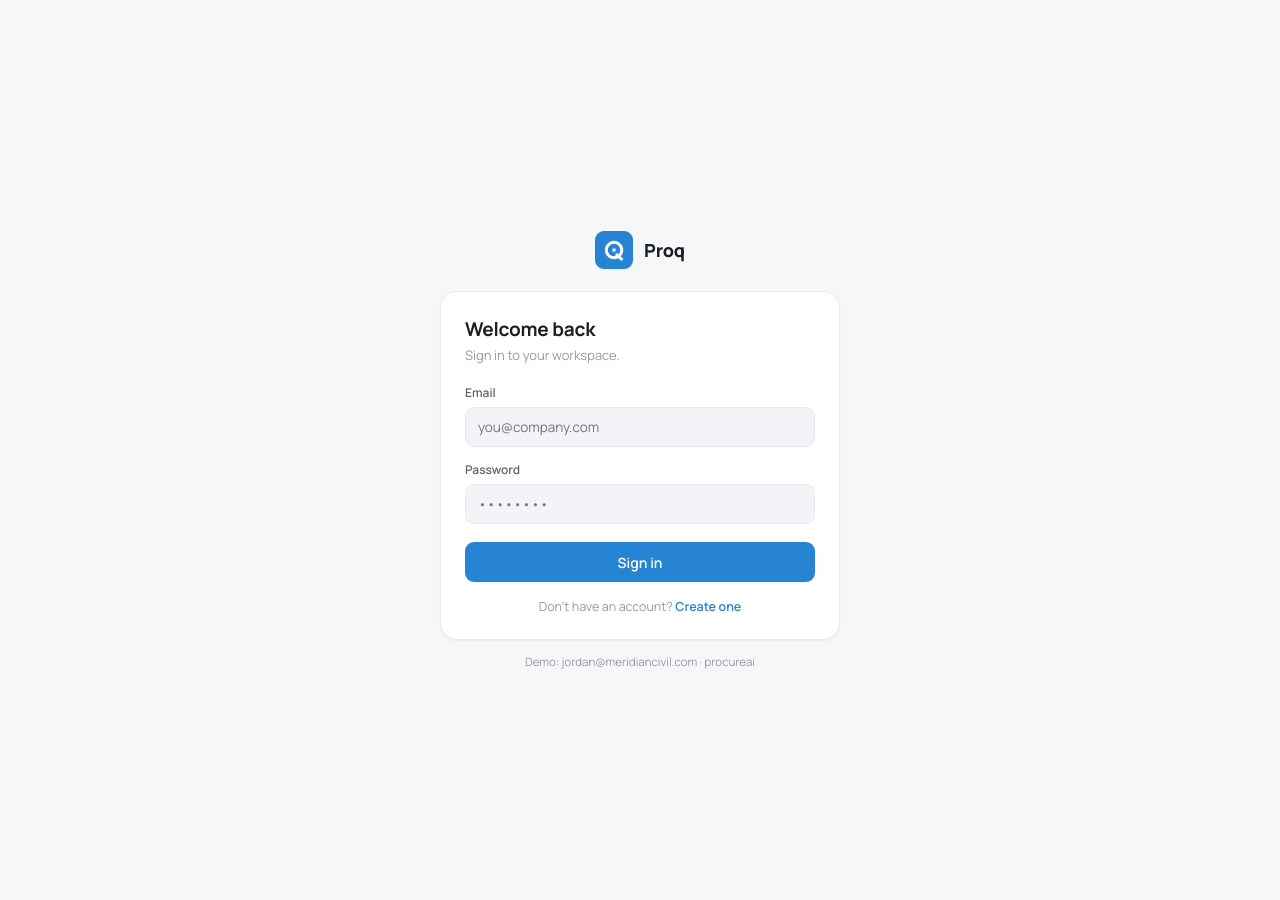
account switching › never renders the previous account's workspace after a different user signs in
Type "alice@acmebuild.com" into the field with placeholder "you@company.com". click: (640, 427)
box: [465,407,815,447]
Type "password123" into the password field with placeholder "••••••••". click: (640, 504)
box: [465,484,815,524]
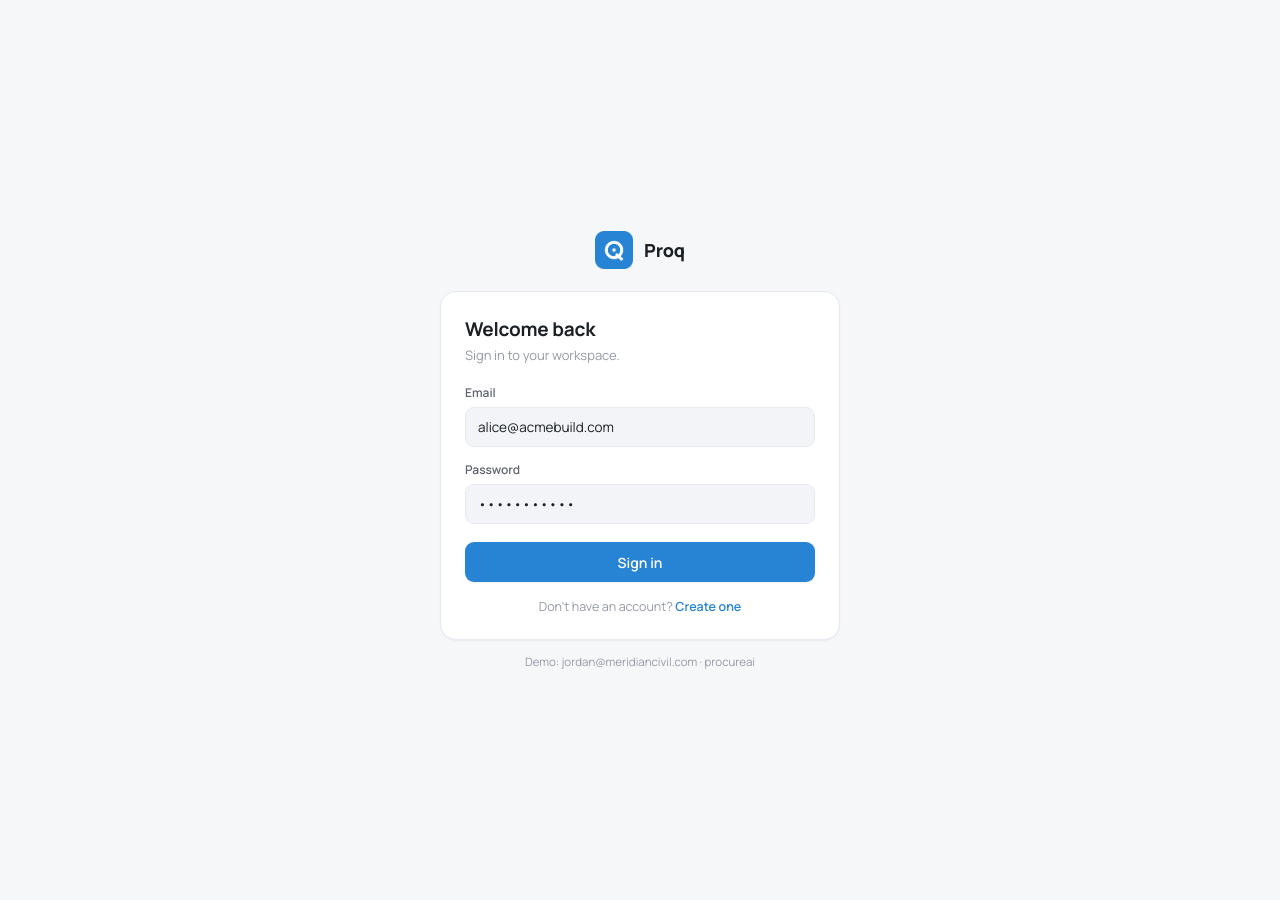
Click the button "Sign in". click: (640, 562)
box: [465,542,815,582]
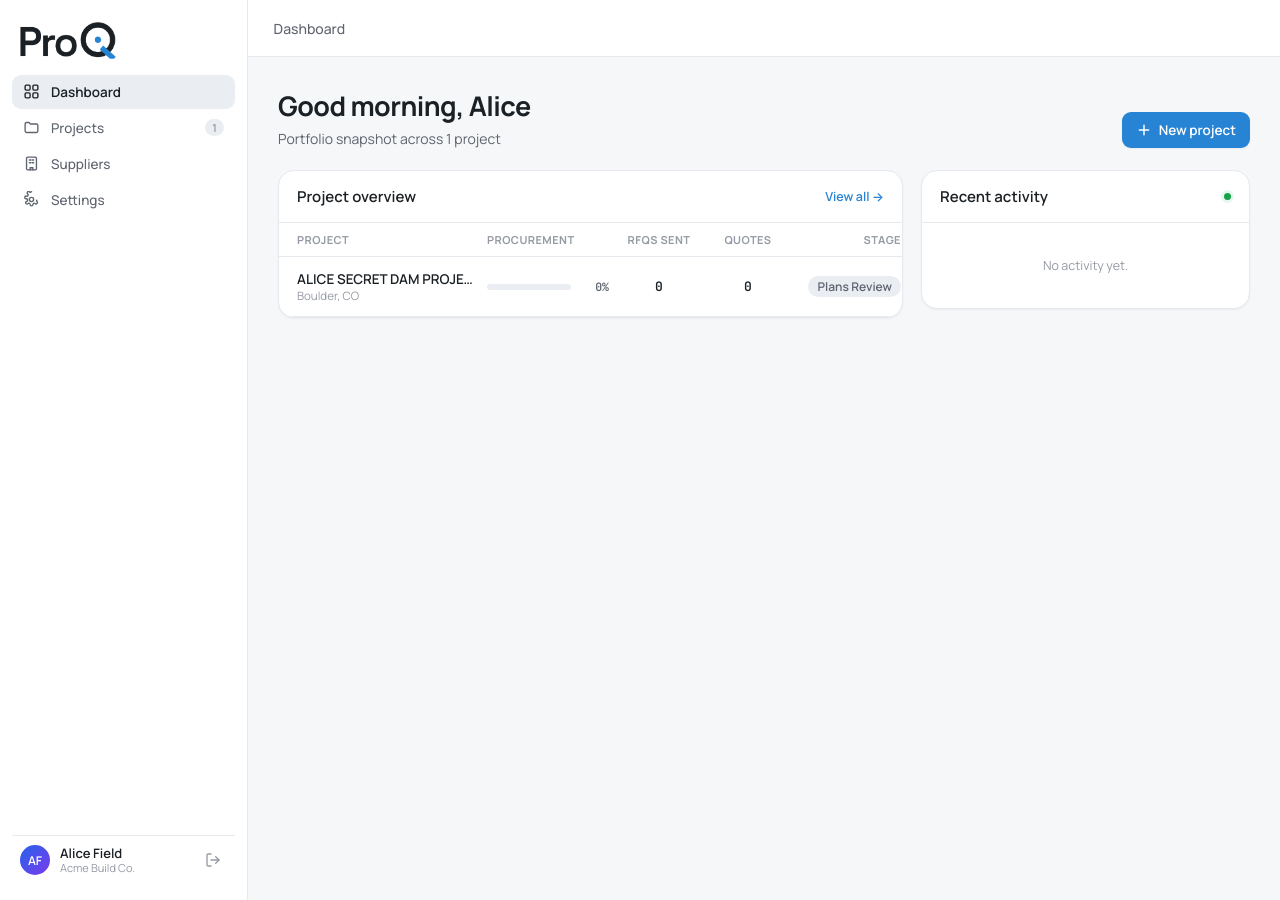
Expected: the text "ALICE SECRET DAM PROJECT" is shown, [297,270,477,288]
Click the button titled "Sign out". click: (213, 860)
box: [199,846,227,874]
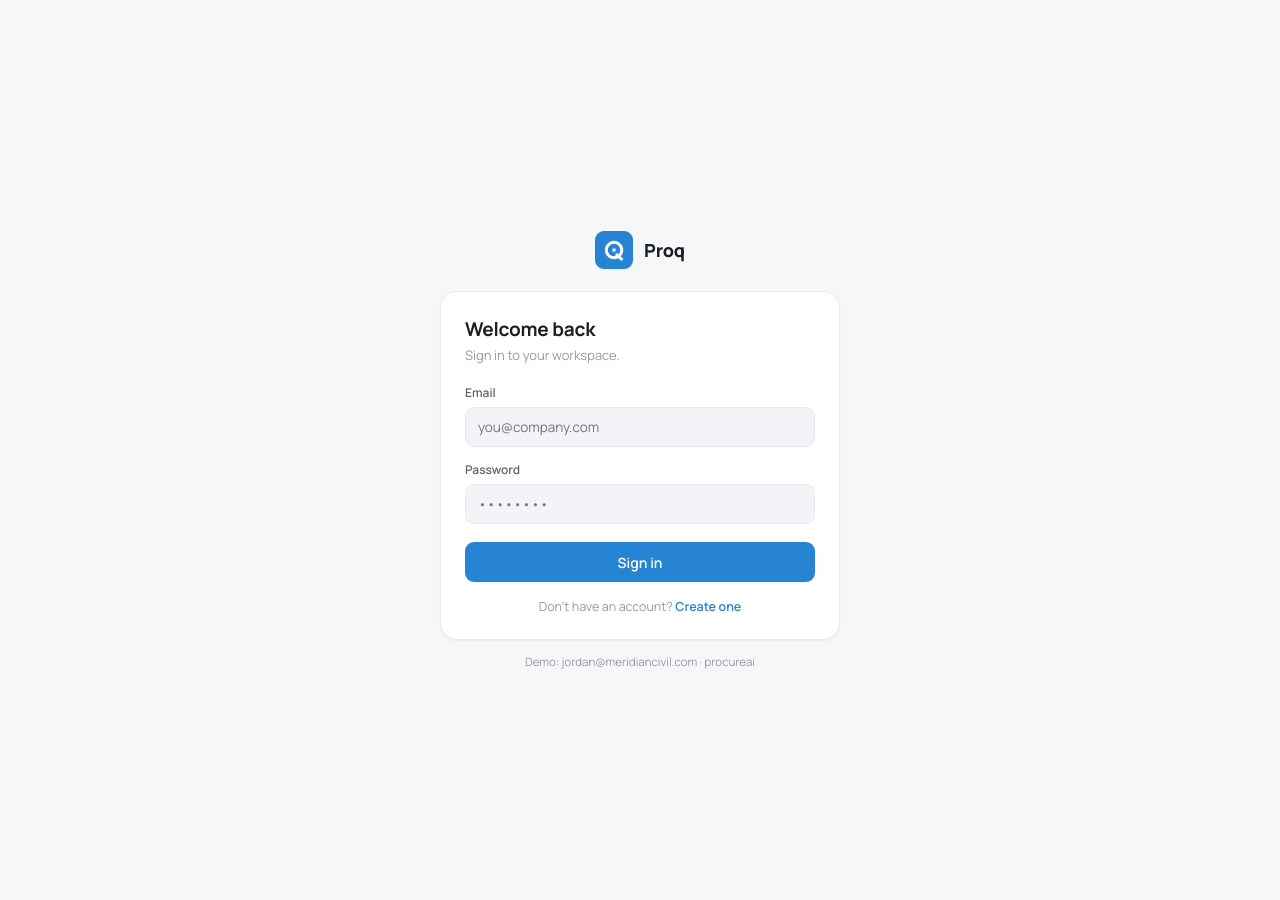
Expected: the field with placeholder "you@company.com" is shown
Type "bob@rivera.com" into the field with placeholder "you@company.com". click: (640, 427)
box: [465,407,815,447]
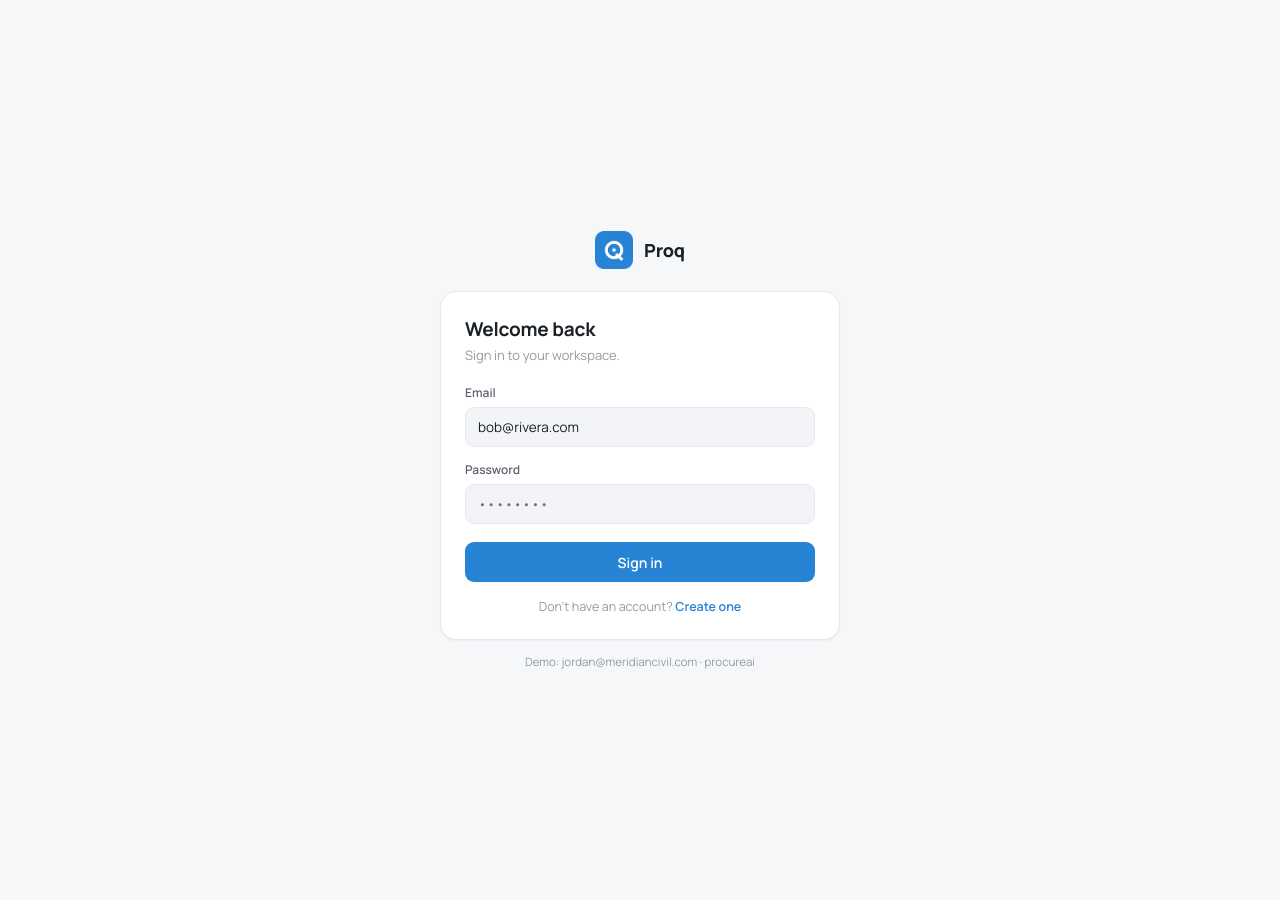
Type "password123" into the password field with placeholder "••••••••". click: (640, 504)
box: [465,484,815,524]
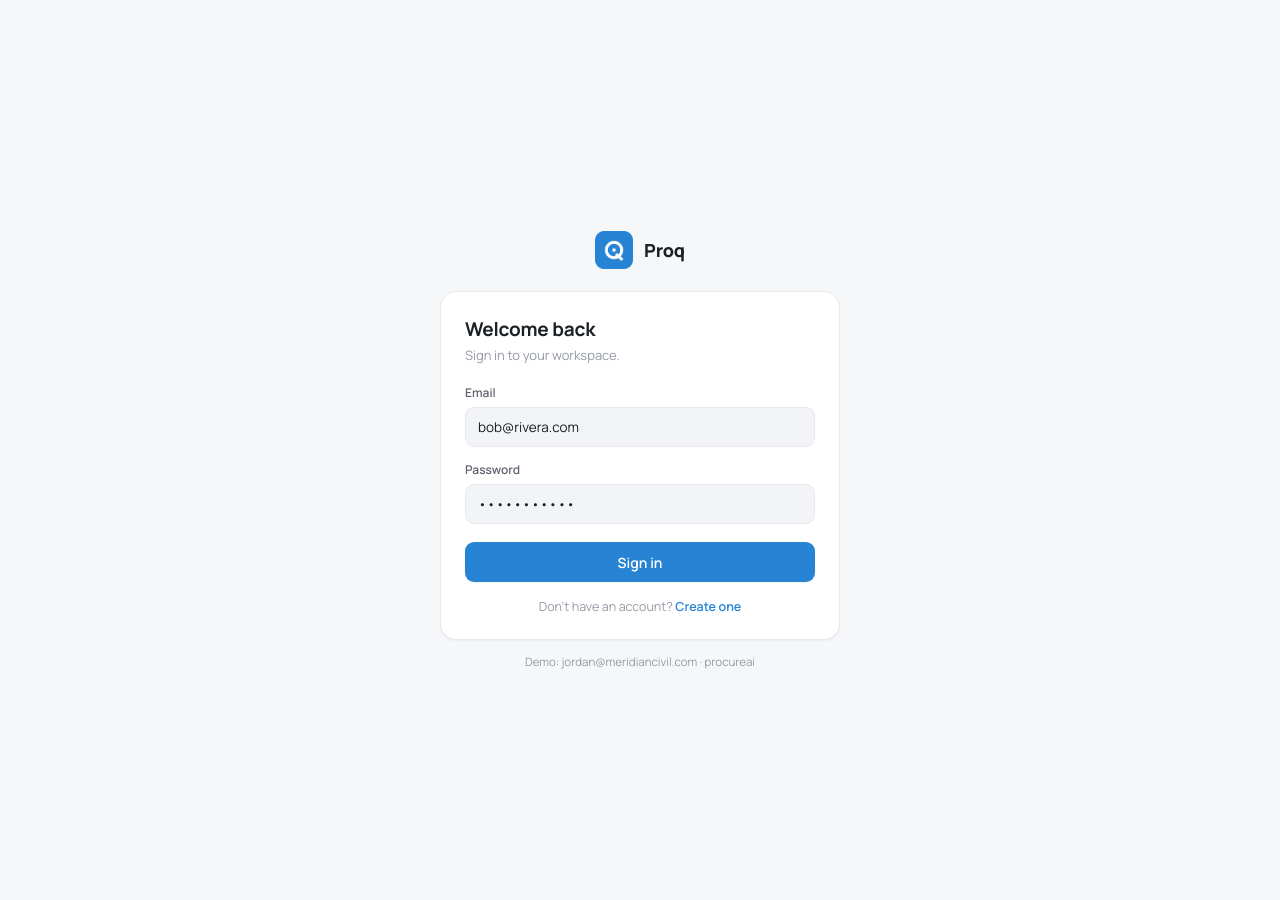
Click the button "Sign in". click: (640, 562)
box: [465,542,815,582]
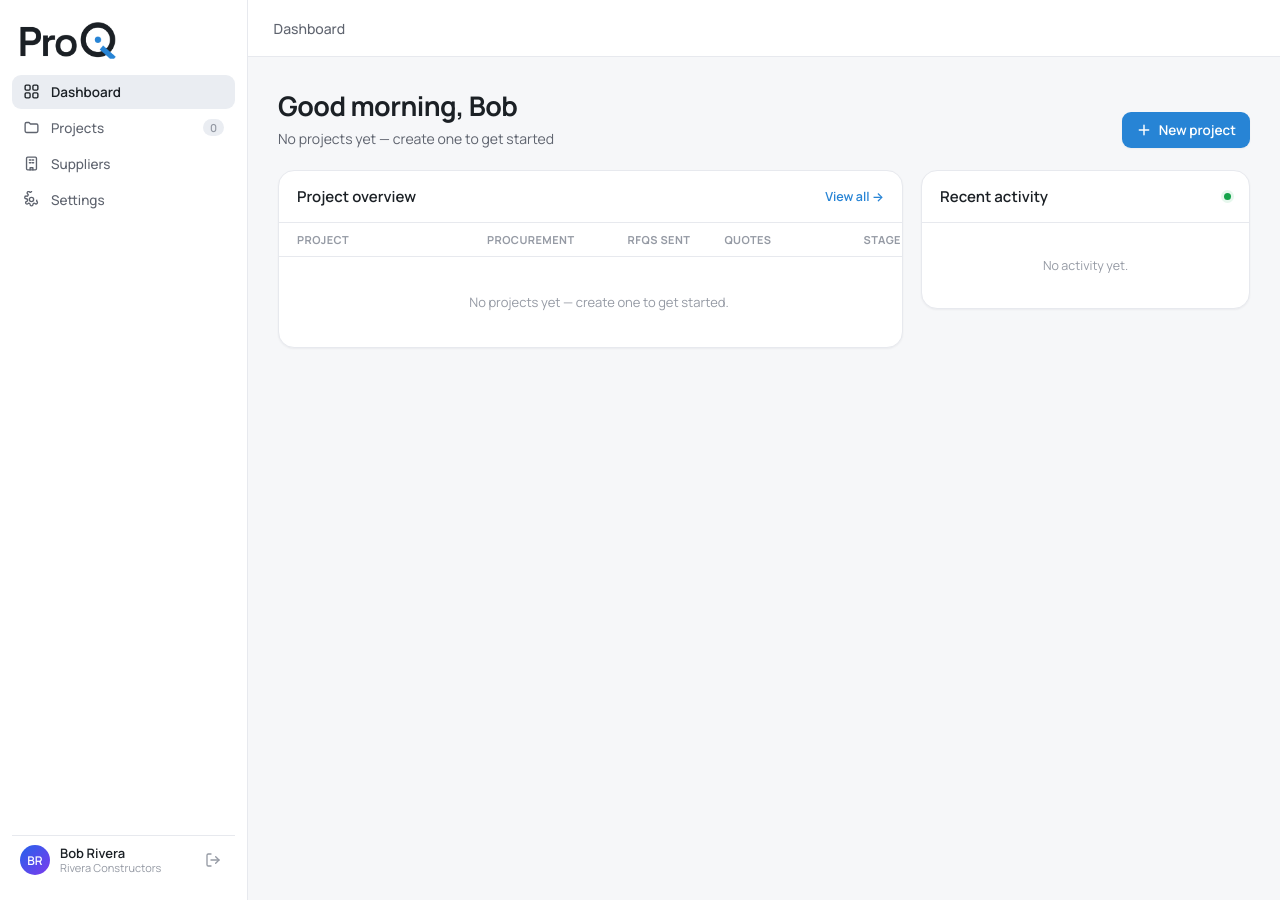
Expected: the field with placeholder "you@company.com" is not shown
Expected: the heading "Good morning, Bob" is shown, [278,87,554,124]
